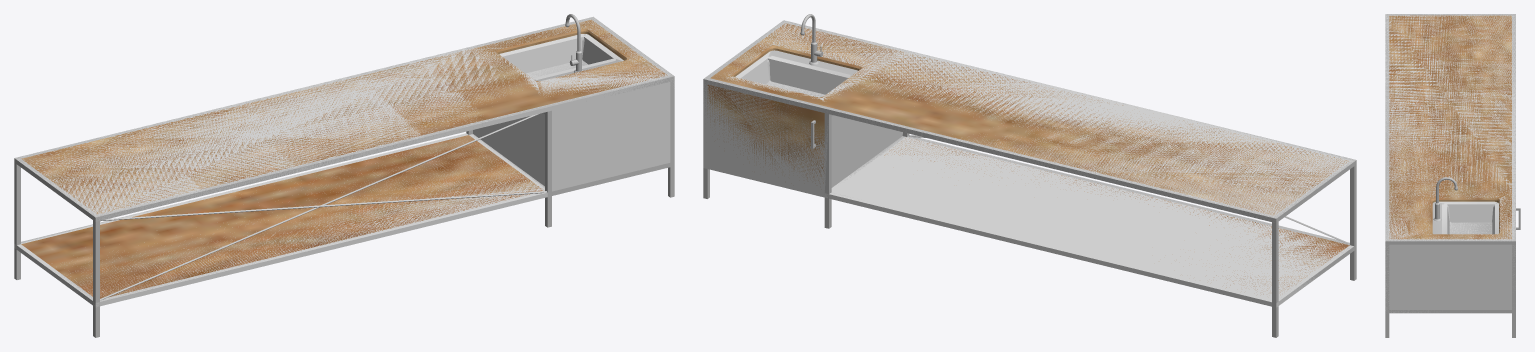
Rendered from Table.fbx.
3 views of the same model, side by side, from view 1: azimuth 30°, elevation 25°; view 2: azimuth 150°, elevation 25°; view 3: azimuth 270°, elevation 25° (orthographic). The views are drawn at different scales.
Visible parts, largest first — view 1: Table, Table_Col; view 2: Table_Col, Table; view 3: Table, Table_Col, Table_Faucet.
Part boxes in pixels (left/top/right/bottom): Table: left=14, top=16, right=674, bottom=337; Table_Col: left=14, top=17, right=674, bottom=307; Table_Col: left=703, top=20, right=1354, bottom=307; Table: left=703, top=20, right=1356, bottom=337; Table: left=1385, top=14, right=1520, bottom=337; Table_Col: left=1385, top=14, right=1515, bottom=313; Table_Faucet: left=1433, top=177, right=1457, bottom=221.
Size of the model in its own units: 2.69 by 0.6776 by 0.7512.
